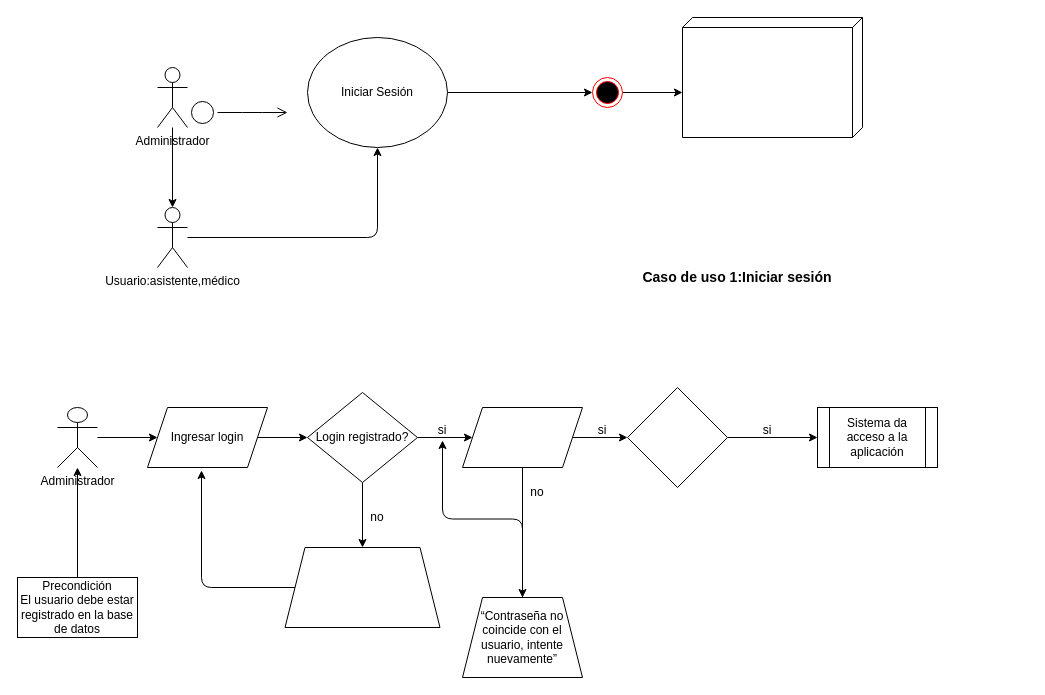
Image size: 1045x695. Some labels were removed from this diagram. Each missing label, with the centre of its shape:
"Aplicación" goes at point 772,77.
"Contraseña encontrada en B.D" goes at point 677,437.
"Error “Login de usuario no se encuentra registrado, intente nuevamente”" goes at point 362,587.
"Ingresa constraseña" goes at point 522,437.
